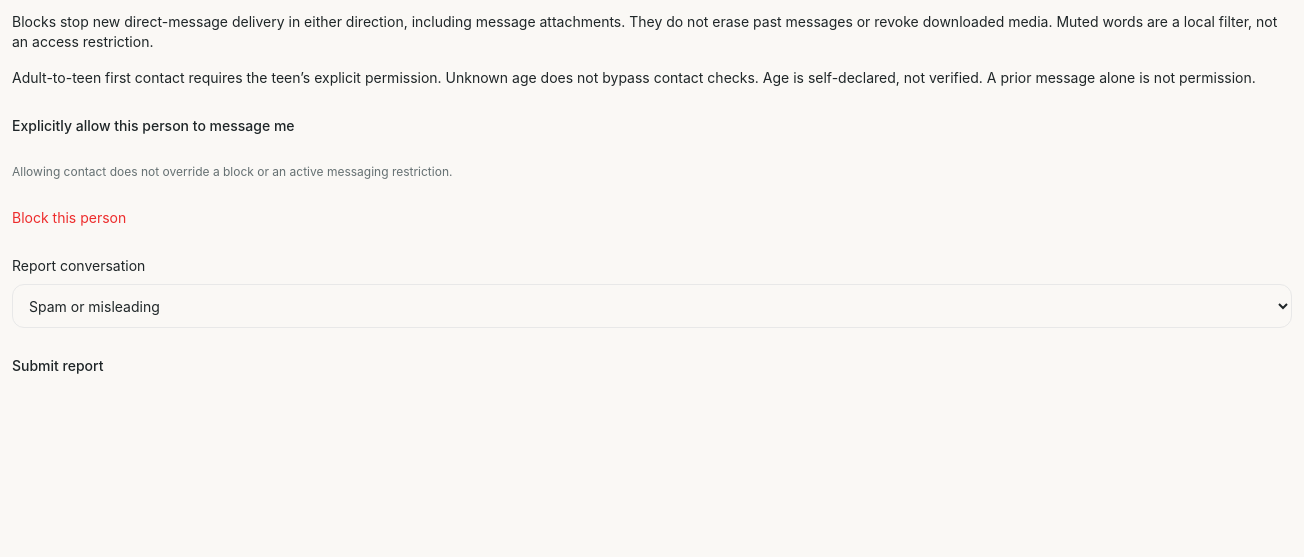
Test case: does not claim a block if the server returns no matching row
Click the button "Block this person".
click(69, 218)  # box x1=12 y1=196 x2=126 y2=240
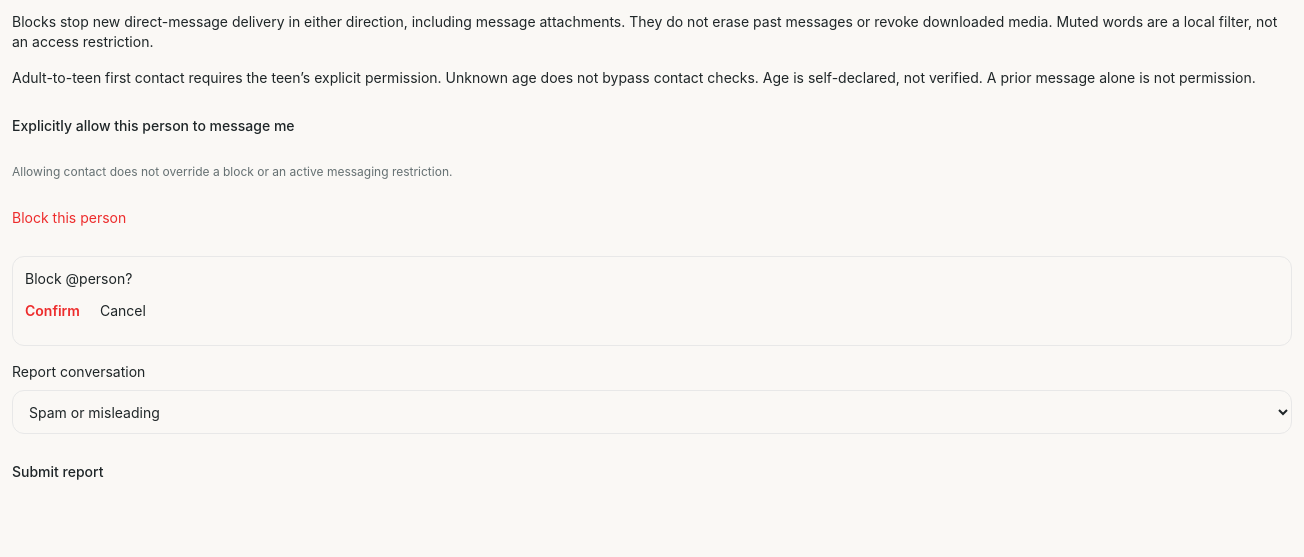
Click the button "Confirm".
click(52, 311)  # box x1=25 y1=289 x2=80 y2=333
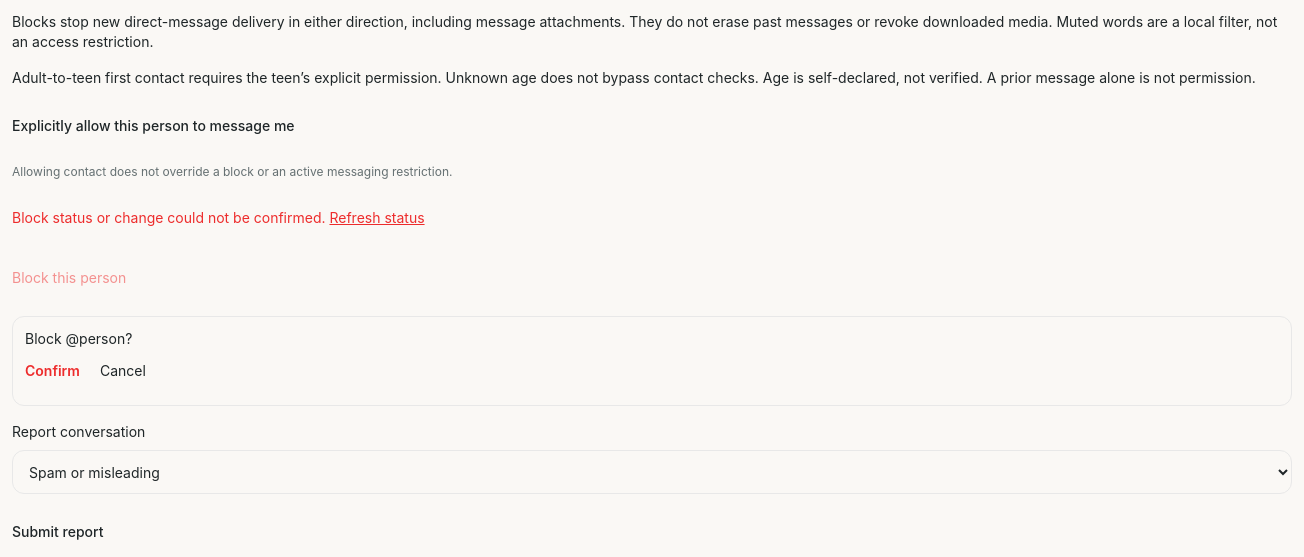
Check: the message "Block status or change could not be confirmed. Refresh status" is shown, box x1=12 y1=196 x2=425 y2=240
